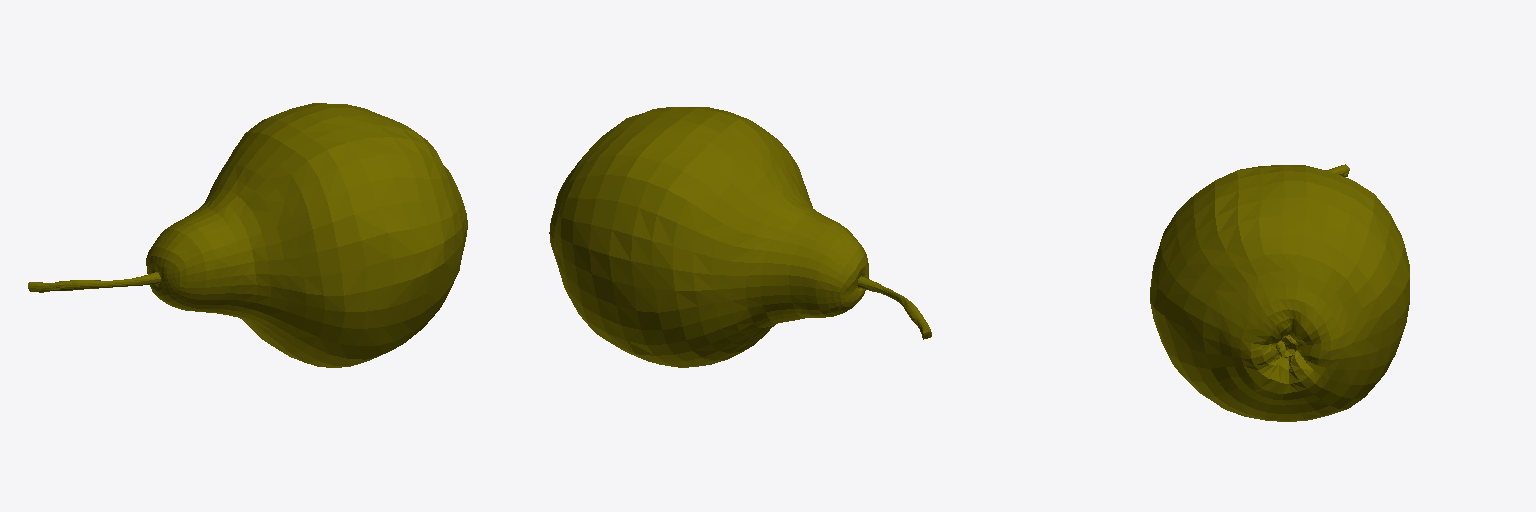
The model's file is pear.obj.
The picture shows the model from 3 angles: view 1: azimuth 30°, elevation 25°; view 2: azimuth 150°, elevation 25°; view 3: azimuth 270°, elevation 25°; orthographic projection.
Visible parts, largest first — view 1: pear.002_Cube.002_pear.002_Cube.002_Pear_Skin_pear.002_Cube.002_, pear.002_Cube.002_pear.002_Cube.002_Pear_Tail_pear.002_Cube.002_; view 2: pear.002_Cube.002_pear.002_Cube.002_Pear_Skin_pear.002_Cube.002_, pear.002_Cube.002_pear.002_Cube.002_Pear_Tail_pear.002_Cube.002_; view 3: pear.002_Cube.002_pear.002_Cube.002_Pear_Skin_pear.002_Cube.002_.
Part boxes in pixels (x1,y1,x2,y2): pear.002_Cube.002_pear.002_Cube.002_Pear_Skin_pear.002_Cube.002_: (146, 103, 467, 367); pear.002_Cube.002_pear.002_Cube.002_Pear_Tail_pear.002_Cube.002_: (28, 272, 160, 292); pear.002_Cube.002_pear.002_Cube.002_Pear_Skin_pear.002_Cube.002_: (549, 107, 868, 367); pear.002_Cube.002_pear.002_Cube.002_Pear_Tail_pear.002_Cube.002_: (857, 276, 931, 339); pear.002_Cube.002_pear.002_Cube.002_Pear_Skin_pear.002_Cube.002_: (1150, 165, 1409, 421).
Size of the model in its own units: 5.72 by 3.26 by 3.29.